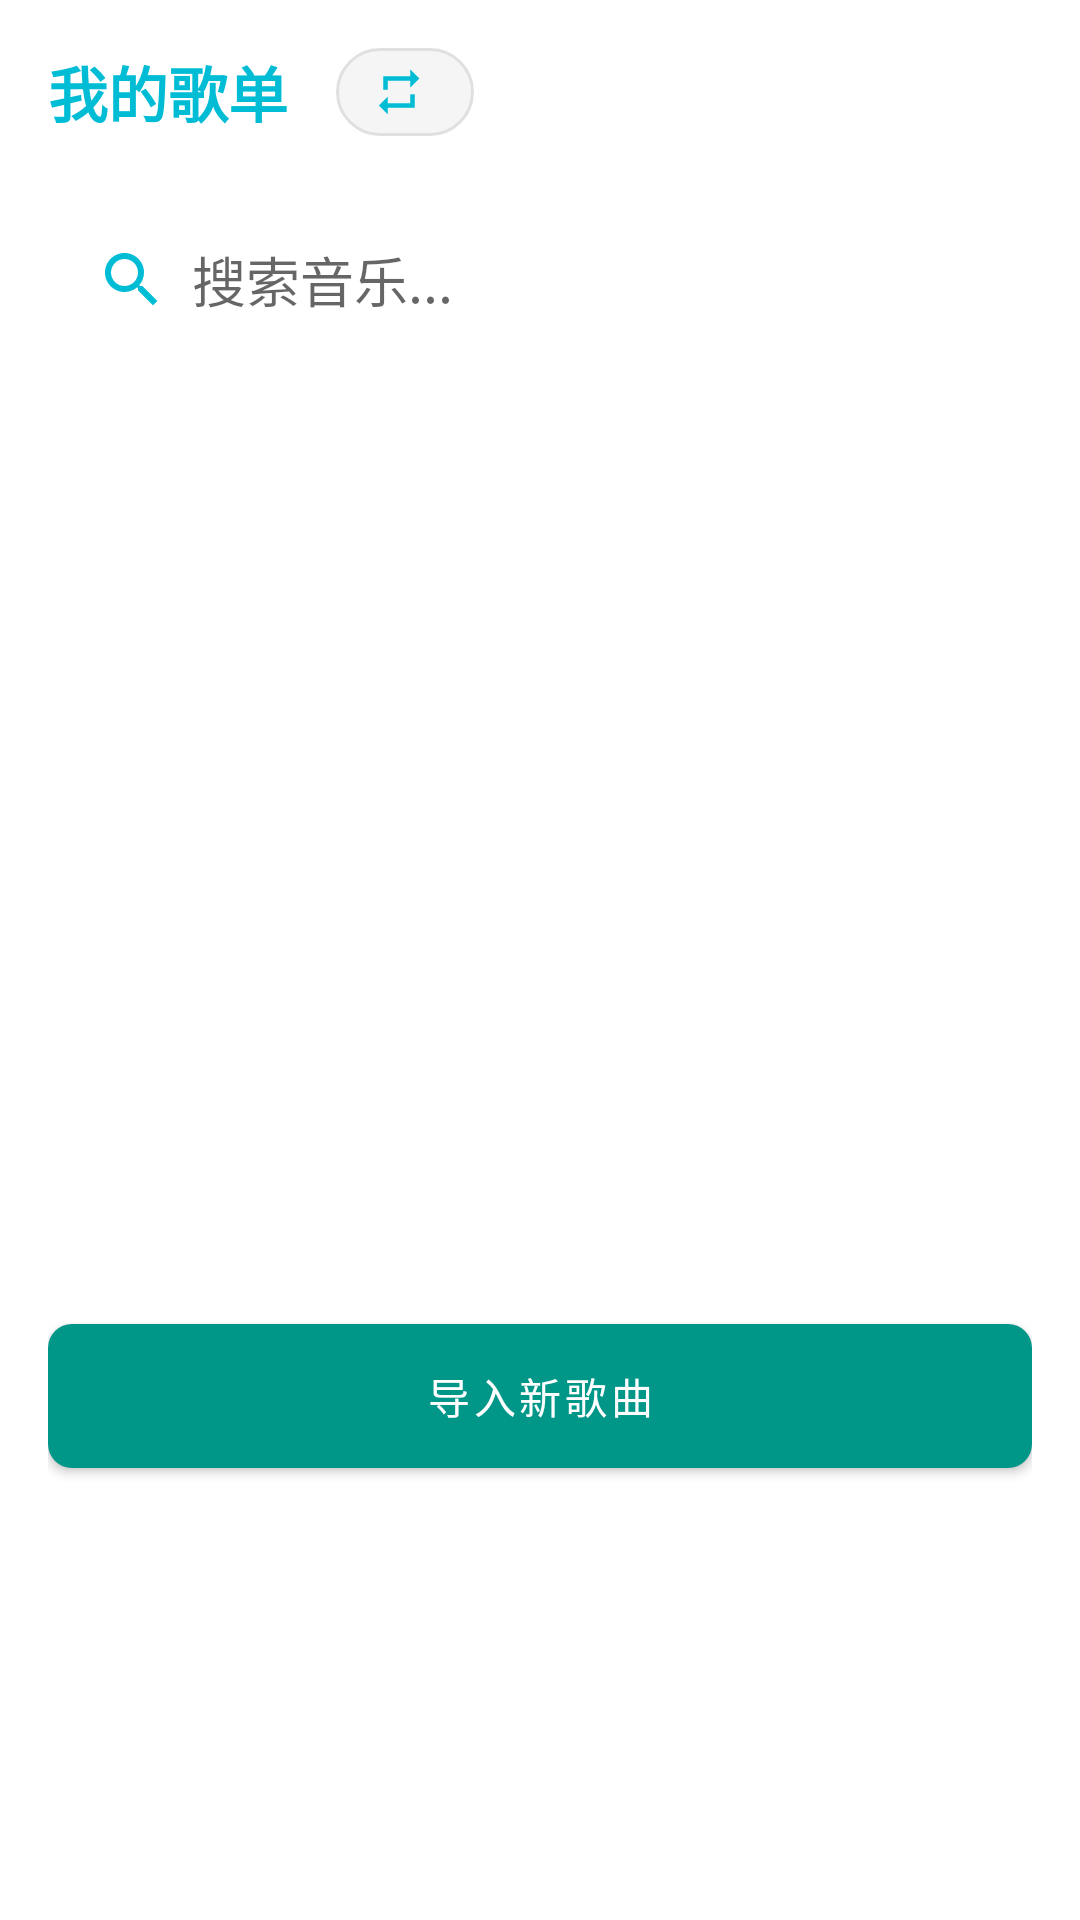

Where to tap for icons on this 1080 x 1920 app screen, as (x,y):
play mode loop: (399,91)
